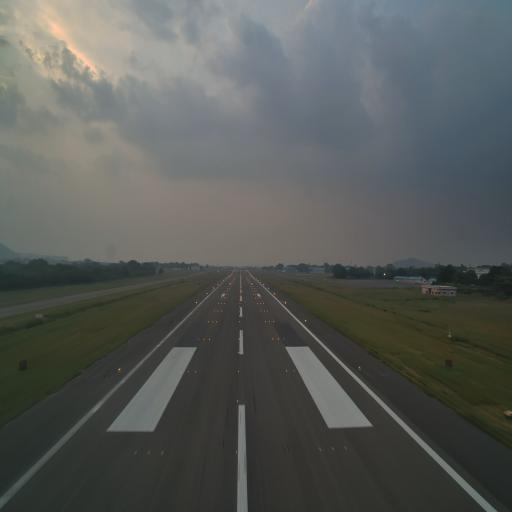on: (330, 444, 336, 452), (147, 449, 152, 458), (134, 447, 138, 457), (319, 444, 323, 454), (343, 445, 348, 452), (234, 449, 238, 456), (300, 367, 304, 374), (161, 448, 164, 457), (118, 366, 122, 372), (236, 396, 239, 404), (236, 368, 240, 374), (285, 368, 288, 375), (178, 369, 182, 374), (292, 368, 296, 373), (194, 368, 197, 374), (358, 364, 361, 370), (186, 369, 189, 374)
